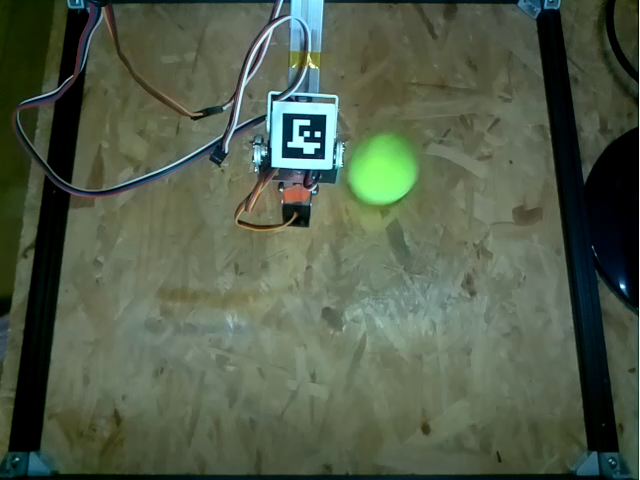tennis_ball: (349, 132, 419, 204)
